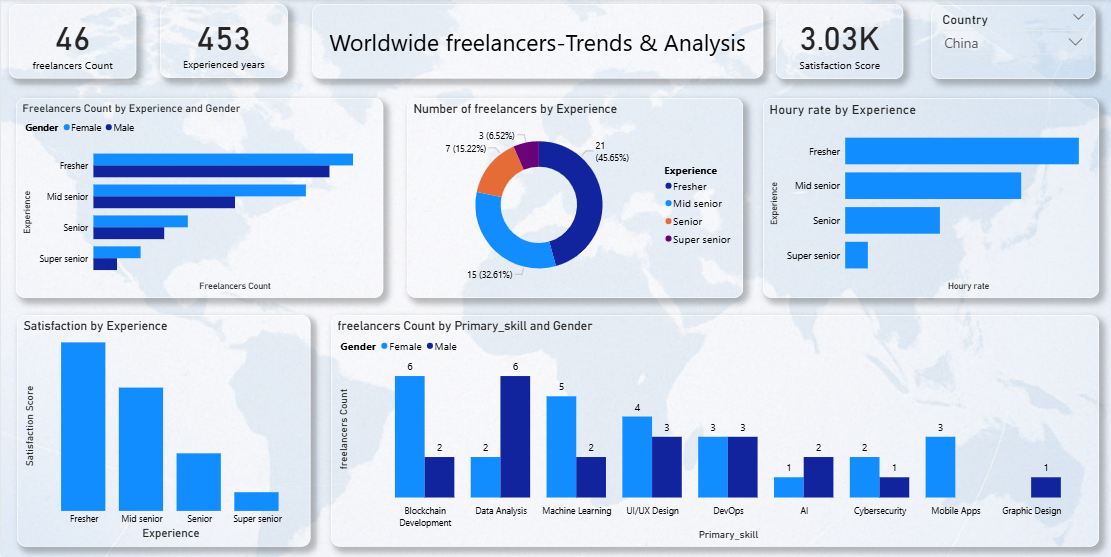

What the dashboard file says about the page in this screenshot:
{"tool":"powerbi","page":{"name":"Page 1","canvas":[1850,930],"ordinal":0},"visuals":[{"type":"donutChart","title":"Number of freelancers by Experience","fields":{"Category":["Table 1 (global_freelancers_raw).Experience(years) (groups)"],"Y":["CountNonNull(Table 1 (global_freelancers_raw).freelancer_ID)"]},"box":[676.4,165.7,559.7,333.1],"z":0},{"type":"columnChart","title":"Satisfaction by Experience","fields":{"Category":["Table 1 (global_freelancers_raw).Experience(years) (groups)"],"Y":["Sum(Table 1 (global_freelancers_raw).Satisfaction)"]},"box":[27.1,525.9,488.7,385.5],"z":1000},{"type":"clusteredColumnChart","fields":{"Category":["Table 1 (global_freelancers_raw).Primary_skill"],"Series":["Table 1 (global_freelancers_raw). Gender"],"Y":["CountNonNull(Table 1 (global_freelancers_raw).freelancer_ID)"]},"box":[549.5,525.9,1280,385.5],"z":2000},{"type":"barChart","fields":{"Category":["Table 1 (global_freelancers_raw).Experience(years) (groups)"],"Y":["Sum(Table 1 (global_freelancers_raw).Houry rate)"]},"box":[1269.9,165.7,559.7,333.1],"z":3000},{"type":"clusteredBarChart","title":"Freelancers Count by Experience and Gender","fields":{"Category":["Table 1 (global_freelancers_raw).Experience(years) (groups)"],"Y":["CountNonNull(Table 1 (global_freelancers_raw).freelancer_ID)"],"Series":["Table 1 (global_freelancers_raw). Gender"]},"box":[25.4,165.7,612.1,333.1],"z":4000},{"type":"card","fields":{"Values":["CountNonNull(Table 1 (global_freelancers_raw).freelancer_ID)"]},"box":[26.7,8.9,159.9,122.6],"z":5000},{"type":"card","fields":{"Values":["Sum(Table 1 (global_freelancers_raw).Experience(years))"]},"box":[207.9,10.7,284.3,122.6],"z":6000},{"type":"slicer","fields":{"Values":["Table 1 (global_freelancers_raw).Country"]},"box":[1550,10,273.3,123.3],"z":7000},{"type":"card","fields":{"Values":["Sum(Table 1 (global_freelancers_raw).Satisfaction)"]},"box":[1292.3,8.3,212.3,124.9],"z":8000},{"type":"shape","box":[518.9,8.9,751.7,124.4],"z":9000}]}

Visuals, with their boxes in screenshot pixels (x1, y1, x2, y2), scaled from the page's 1850x930 canvas onto the 1111x557 screenshot:
"Number of freelancers by Experience" donutChart: 406 99 742 299
"Satisfaction by Experience" columnChart: 16 315 310 546
clusteredColumnChart - Table 1 (global_freelancers_raw).Primary_skill x Table 1 (global_freelancers_raw). Gender: 330 315 1099 546
barChart - Table 1 (global_freelancers_raw).Experience(years) (groups) x Sum(Table 1 (global_freelancers_raw).Houry rate): 763 99 1099 299
"Freelancers Count by Experience and Gender" clusteredBarChart: 15 99 383 299
card - CountNonNull(Table 1 (global_freelancers_raw).freelancer_ID): 16 5 112 79
card - Sum(Table 1 (global_freelancers_raw).Experience(years)): 125 6 296 80
slicer - Table 1 (global_freelancers_raw).Country: 931 6 1095 80
card - Sum(Table 1 (global_freelancers_raw).Satisfaction): 776 5 904 80
shape: 312 5 763 80
